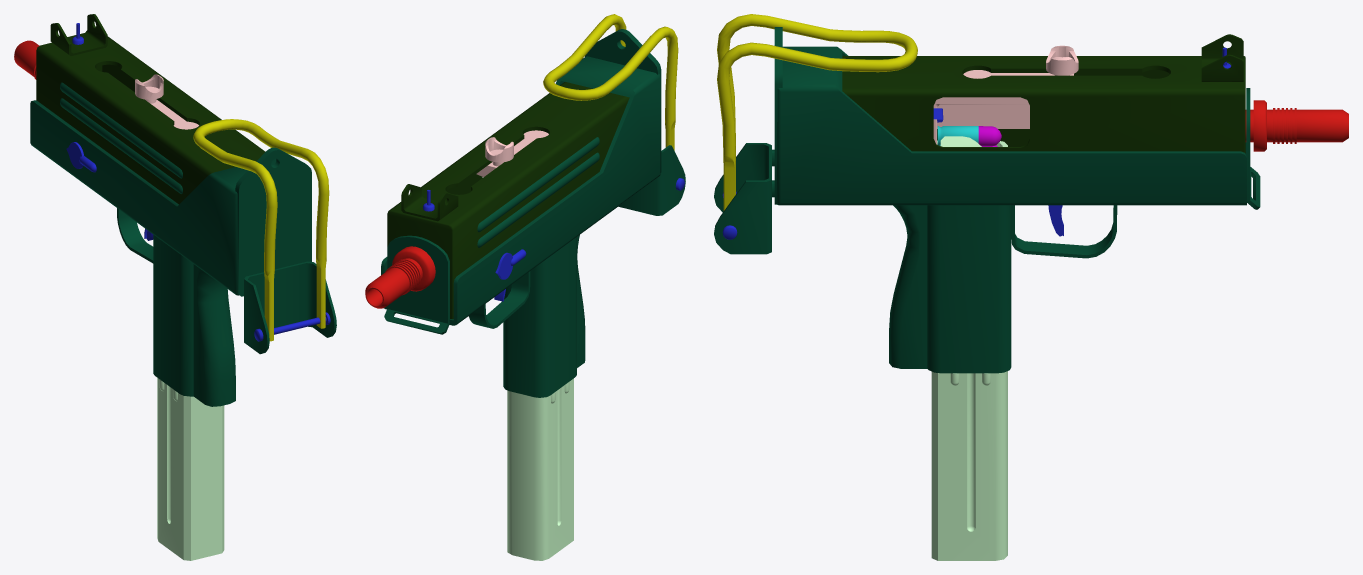
File: MAC_10_FBX.fbx
3 renders of one model, left to right at view 1: azimuth 30°, elevation 25°; view 2: azimuth 150°, elevation 25°; view 3: azimuth 270°, elevation 25°, orthographic. The views are drawn at different scales.
Parts seen in each view (by area): view 1: MAC10_9, MAC10_8, MAC10_5, MAC10_3, MAC10_4, MAC10_7, MAC10_6; view 2: MAC10_9, MAC10_8, MAC10_5, MAC10_3, MAC10_6, MAC10_7, MAC10_4; view 3: MAC10_9, MAC10_8, MAC10_5, MAC10_3, MAC10_7, MAC10_6, MAC10_4.
Part boxes in pixels (x1,y1,x2,y2): MAC10_9: (30,82,336,406); MAC10_8: (36,14,265,204); MAC10_5: (157,378,224,560); MAC10_3: (193,119,329,341); MAC10_4: (66,23,330,341); MAC10_7: (135,74,198,129); MAC10_6: (14,40,39,79); MAC10_9: (381,29,685,397); MAC10_8: (387,82,629,319); MAC10_5: (507,378,573,560); MAC10_3: (543,14,678,150); MAC10_6: (365,246,435,308); MAC10_7: (476,130,548,177); MAC10_4: (423,178,684,301); MAC10_9: (714,27,1260,373); MAC10_8: (842,34,1245,153); MAC10_5: (931,136,1007,560); MAC10_3: (717,14,917,210); MAC10_7: (933,45,1078,144); MAC10_6: (1245,100,1348,151); MAC10_4: (722,47,1231,239).
Size of the model in its own units: 34.08 by 184 by 203.
